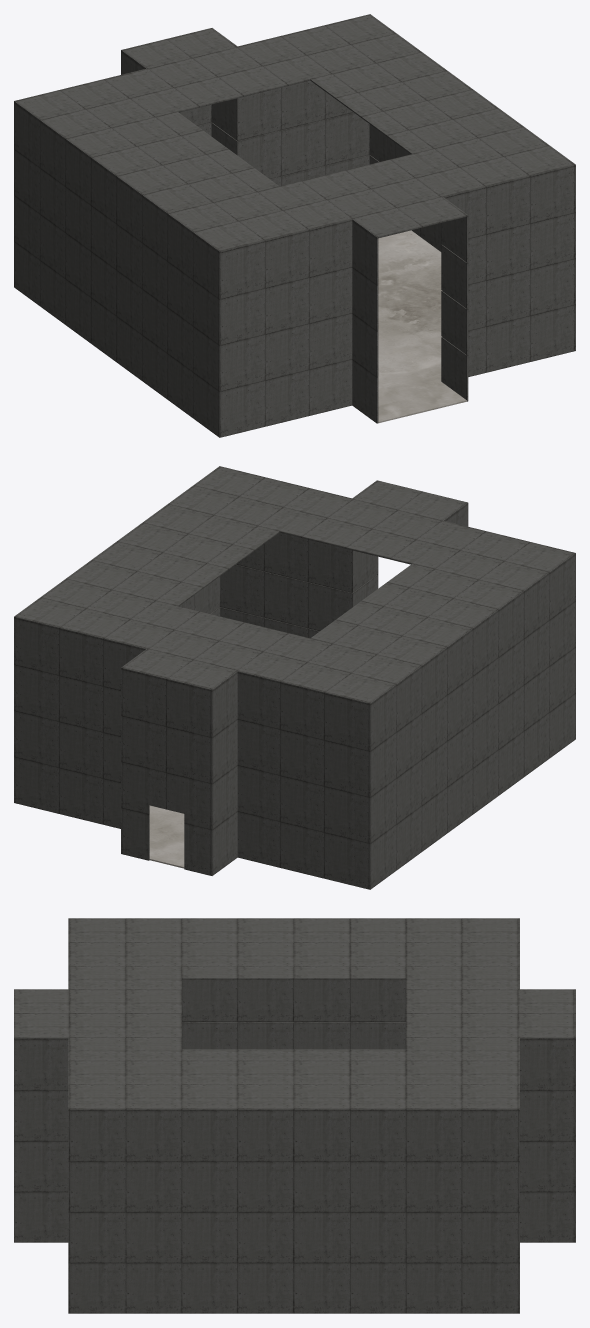
Rendered from chamber3.gltf.
The picture shows the model from 3 angles, top to bottom: view 1: azimuth 30°, elevation 25°; view 2: azimuth 150°, elevation 25°; view 3: azimuth 270°, elevation 25°; orthographic projection. The views are drawn at different scales.
Visible parts, largest first — view 1: chamber3; view 2: chamber3; view 3: chamber3.
Part boxes in pixels (x1,y1,x2,y2): chamber3: (14, 14, 575, 437); chamber3: (14, 466, 575, 889); chamber3: (14, 918, 575, 1313).
Size of the model in its own units: 8.06 by 4.03 by 10.03.
2 materials, 2 textured.
